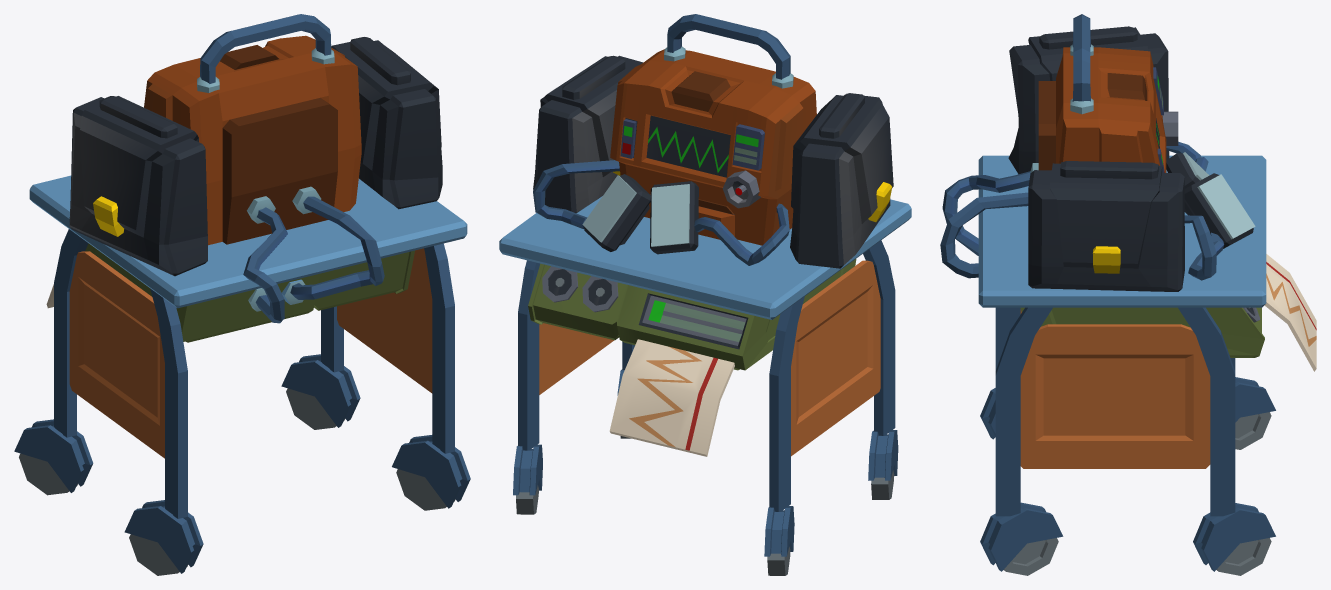
Rendered from g_o_EquipmentCrashCart.fbx.
The picture shows the model from 3 angles, left to right: view 1: azimuth 30°, elevation 25°; view 2: azimuth 150°, elevation 25°; view 3: azimuth 270°, elevation 25°; orthographic projection. The views are drawn at different scales.
Parts seen in each view (by area): view 1: g_o_Heart_AttackTreatmentStation; view 2: g_o_Heart_AttackTreatmentStation; view 3: g_o_Heart_AttackTreatmentStation.
Boxes of the visible parts, x1,y1,x2,y2 form: g_o_Heart_AttackTreatmentStation: [14, 14, 470, 575]; g_o_Heart_AttackTreatmentStation: [499, 14, 911, 575]; g_o_Heart_AttackTreatmentStation: [940, 14, 1316, 575].
Bounding box in the file's own units: 76.76 × 106 × 75.78.
